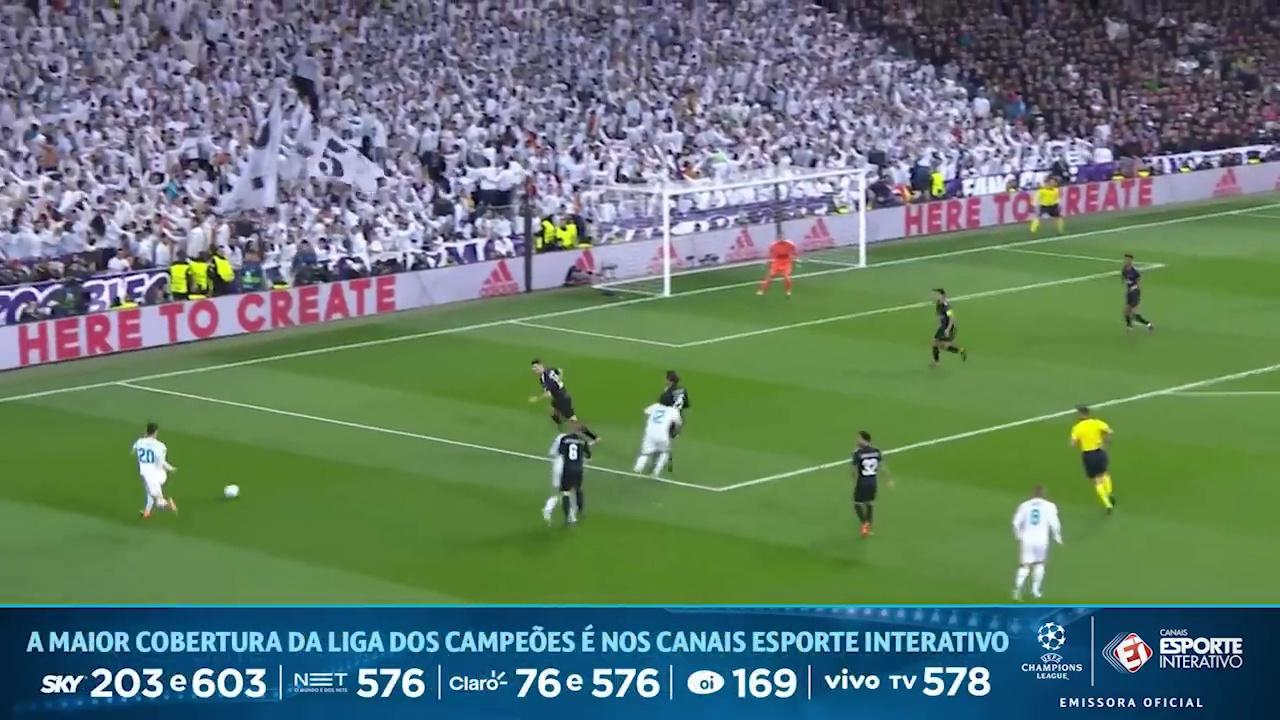football: (224, 485, 239, 498)
player: (1012, 485, 1062, 600), (530, 358, 598, 442), (543, 427, 590, 524), (132, 422, 176, 517), (851, 430, 890, 536), (633, 403, 681, 476), (932, 288, 966, 366), (1121, 254, 1153, 331), (757, 238, 797, 296), (658, 370, 690, 438)
referee: (1070, 406, 1114, 513), (1031, 177, 1064, 232)
